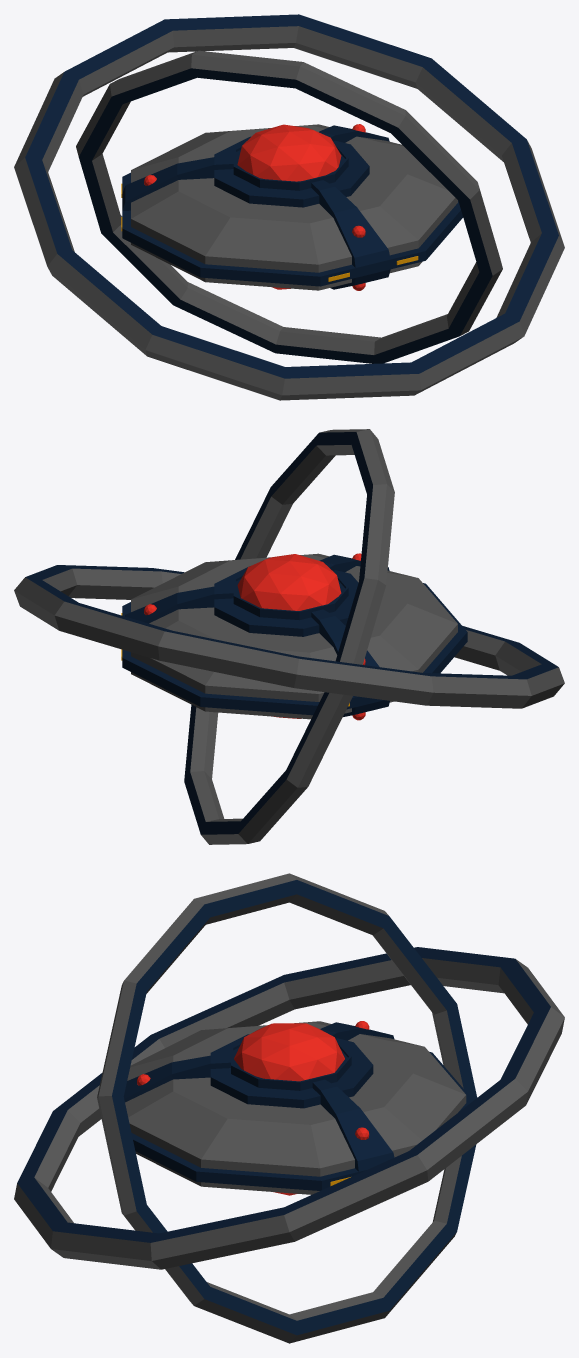
File: UFO.fbx
3 views of the same model, one above another, from view 1: azimuth 30°, elevation 25°; view 2: azimuth 150°, elevation 25°; view 3: azimuth 270°, elevation 25° (orthographic). The views are drawn at different scales.
Visible parts, largest first — view 1: ufo; view 2: ufo; view 3: ufo.
Part boxes in pixels (x1,y1,x2,y2): ufo: (14,14,564,400); ufo: (14,429,564,844); ufo: (14,873,564,1343).
Bounding box in the file's own units: 943 × 681 × 886.
